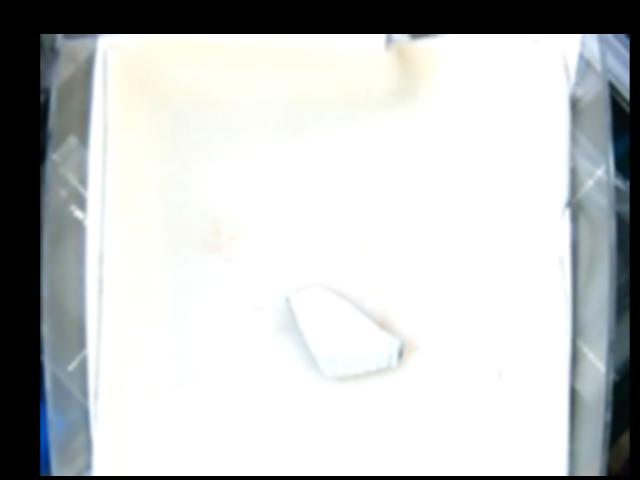China: (288, 285, 403, 380)
